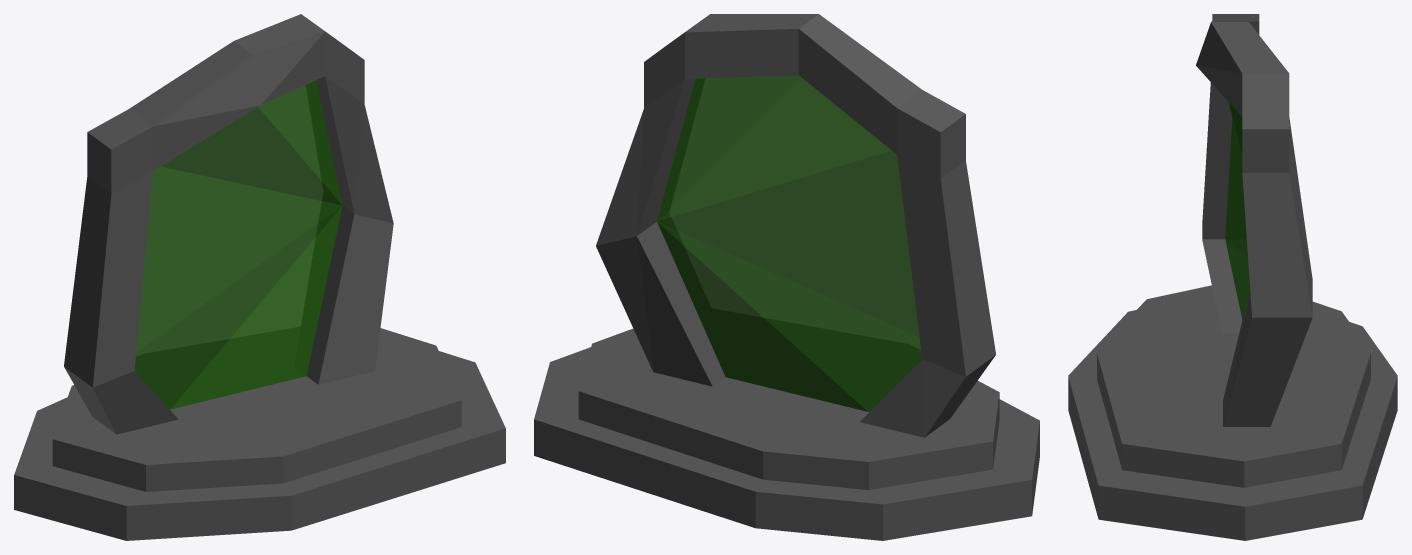
File: portal.dae
3 views of the same model, side by side, from view 1: azimuth 30°, elevation 25°; view 2: azimuth 150°, elevation 25°; view 3: azimuth 270°, elevation 25° (orthographic). The views are drawn at different scales.
Parts seen in each view (by area): view 1: Cube, Cube_001, Cube_002; view 2: Cube_002, Cube, Cube_001; view 3: Cube, Cube_001, Cube_002.
Boxes of the visible parts, left/top/right/bottom form: Cube: left=14, top=328, right=505, bottom=540; Cube_001: left=64, top=14, right=393, bottom=434; Cube_002: left=134, top=80, right=342, bottom=409; Cube_002: left=657, top=75, right=922, bottom=411; Cube: left=534, top=328, right=1039, bottom=540; Cube_001: left=596, top=14, right=995, bottom=437; Cube: left=1068, top=285, right=1397, bottom=540; Cube_001: left=1196, top=14, right=1312, bottom=426; Cube_002: left=1225, top=102, right=1249, bottom=319.
Size of the model in its own units: 8.11 by 6.95 by 5.13.
